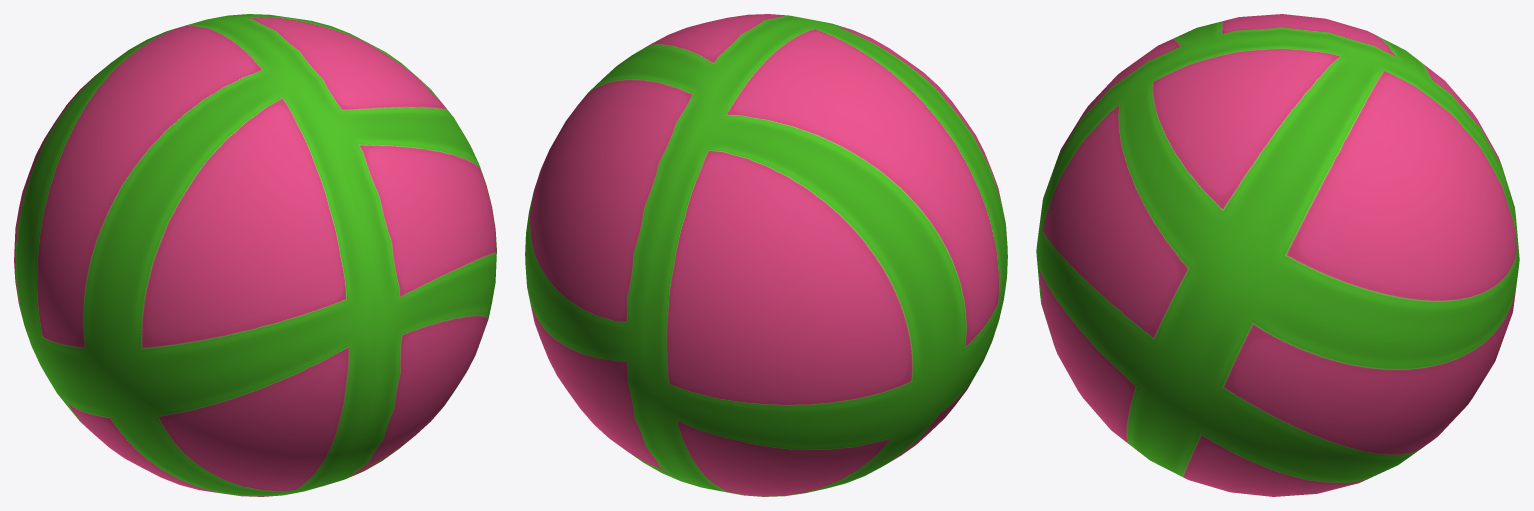
Rendered from Dribble.fbx.
3 views of the same model, side by side, from view 1: azimuth 30°, elevation 25°; view 2: azimuth 150°, elevation 25°; view 3: azimuth 270°, elevation 25° (orthographic).
Parts seen in each view (by area): view 1: Dribble; view 2: Dribble; view 3: Dribble.
Boxes of the visible parts, left/top/right/bottom form: Dribble: left=14, top=14, right=496, bottom=496; Dribble: left=525, top=14, right=1007, bottom=496; Dribble: left=1036, top=14, right=1519, bottom=496.
Size of the model in its own units: 200 by 200 by 200.
